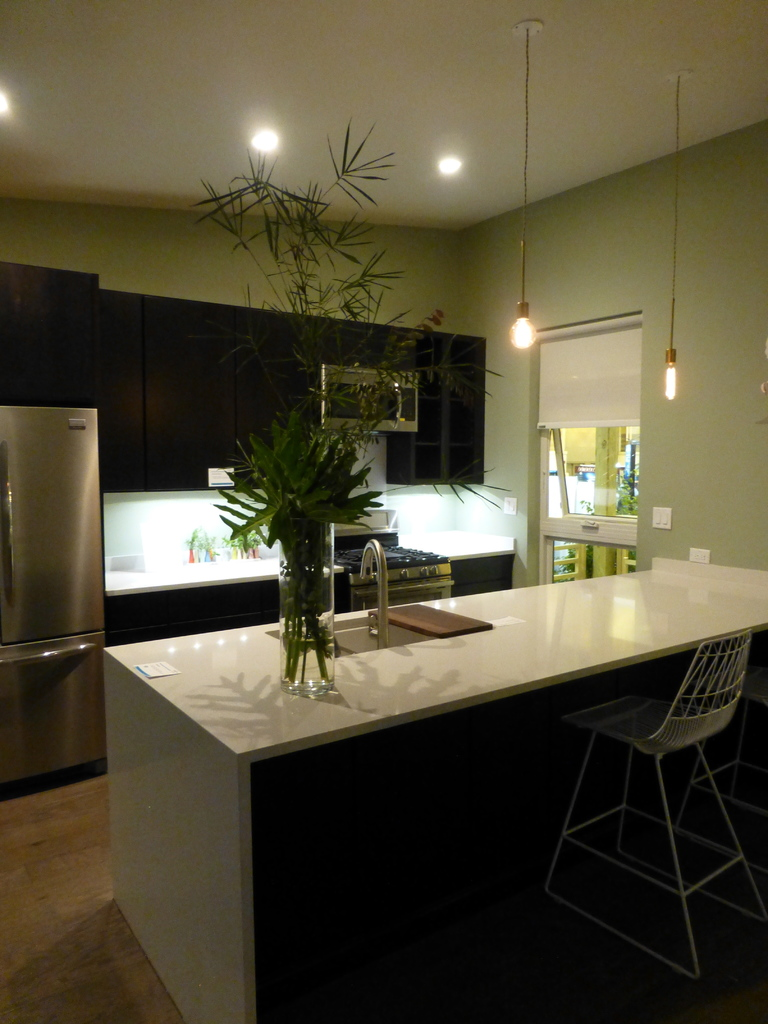handle: (7, 653, 87, 687), (4, 485, 19, 604)
refrigerator door: (2, 415, 98, 620), (1, 647, 103, 761)
